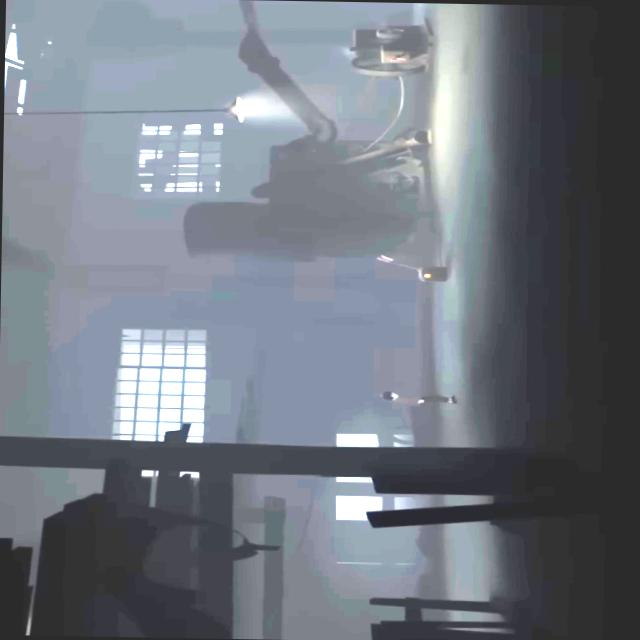boy: (381, 389, 458, 407)
